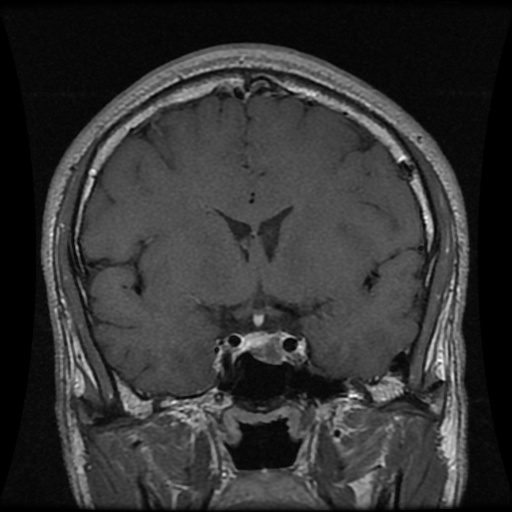pituitary: (241, 330, 284, 362)
